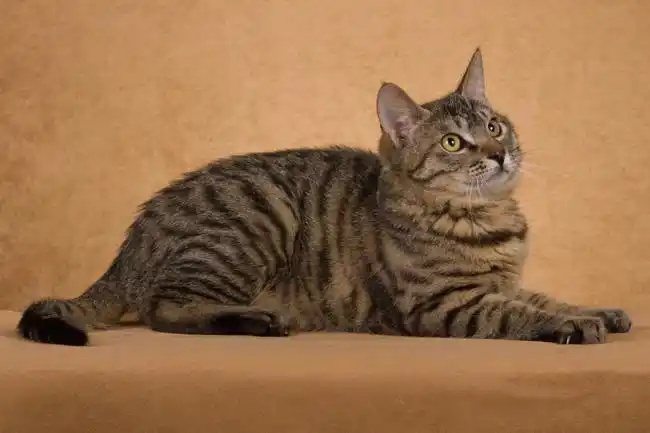狸花猫: (153, 52, 552, 339), (368, 49, 630, 343), (19, 148, 379, 345)
